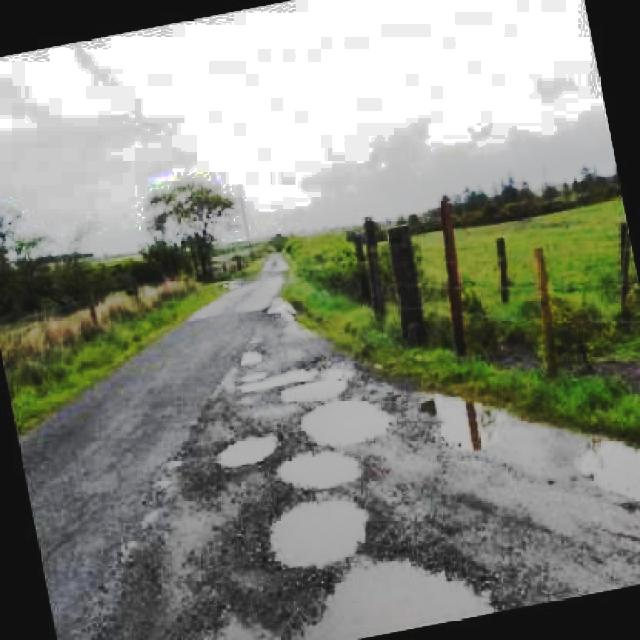pothole: (308, 549, 522, 640), (263, 488, 382, 578), (412, 392, 505, 451), (237, 362, 354, 406), (300, 397, 395, 448), (278, 443, 362, 499), (217, 426, 285, 471)
